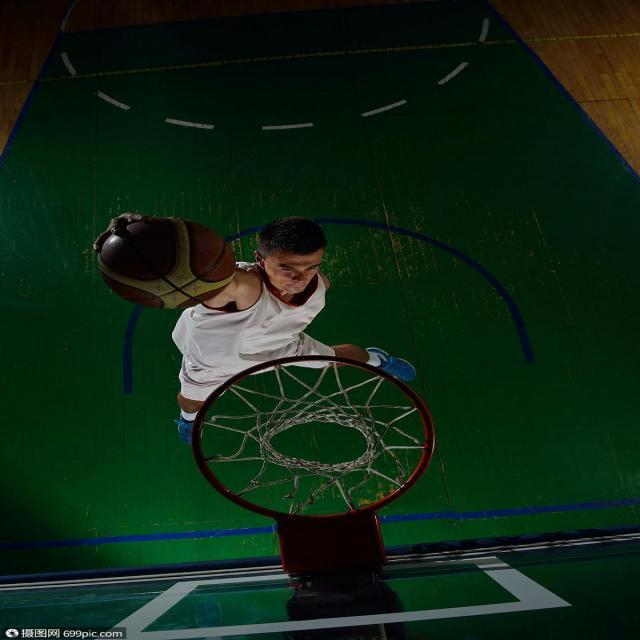rim: (92, 215, 240, 311)
